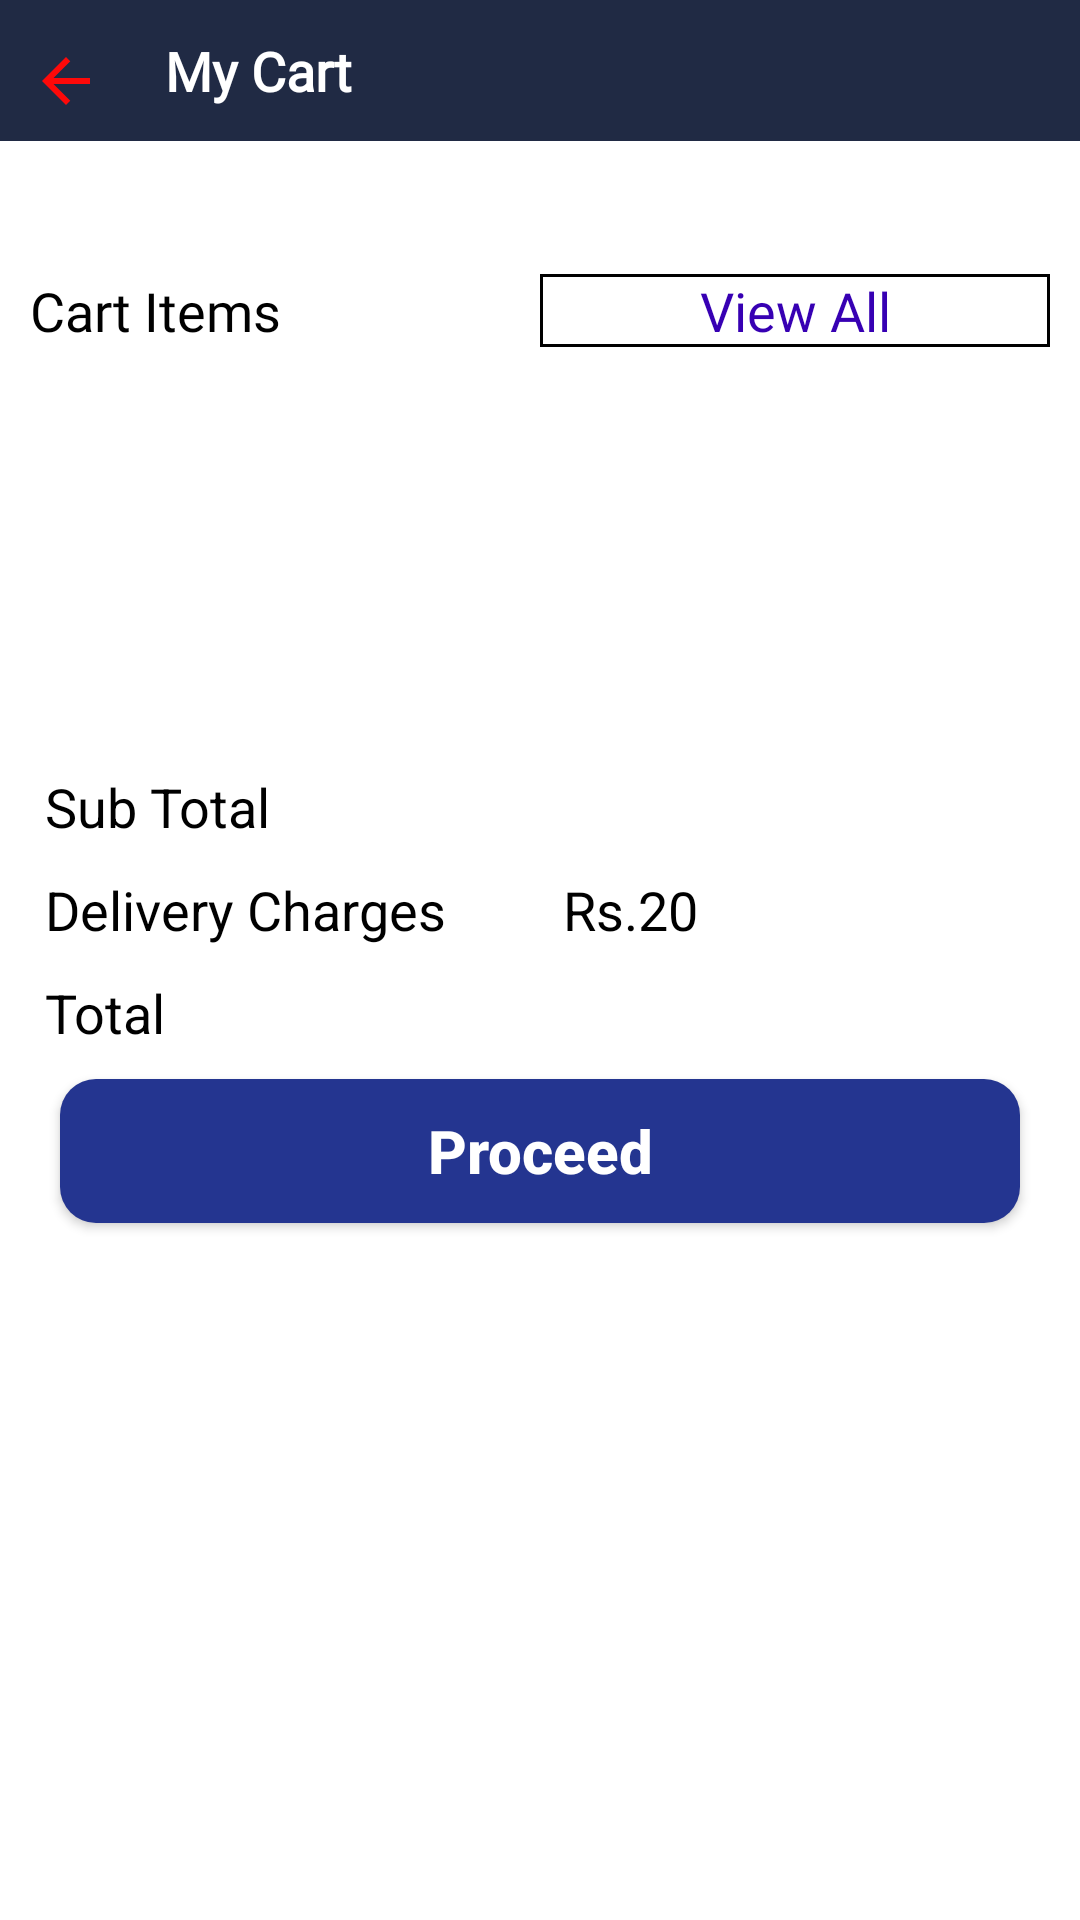

Where to tap for icons on this 1080x1920 app screen, as (x=x, y=y):
arrow back: (x=66, y=81)
